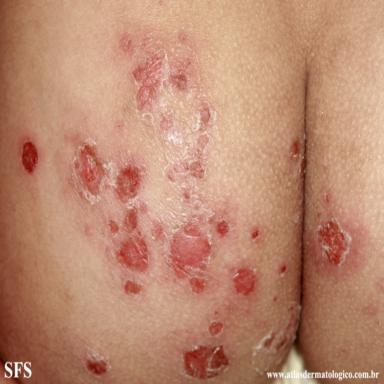Impetigo: (68, 27, 239, 301), (178, 257, 263, 382), (312, 190, 365, 279), (250, 298, 301, 382), (287, 139, 305, 186), (19, 135, 39, 176), (82, 349, 111, 377), (249, 226, 262, 243), (278, 263, 288, 279)
